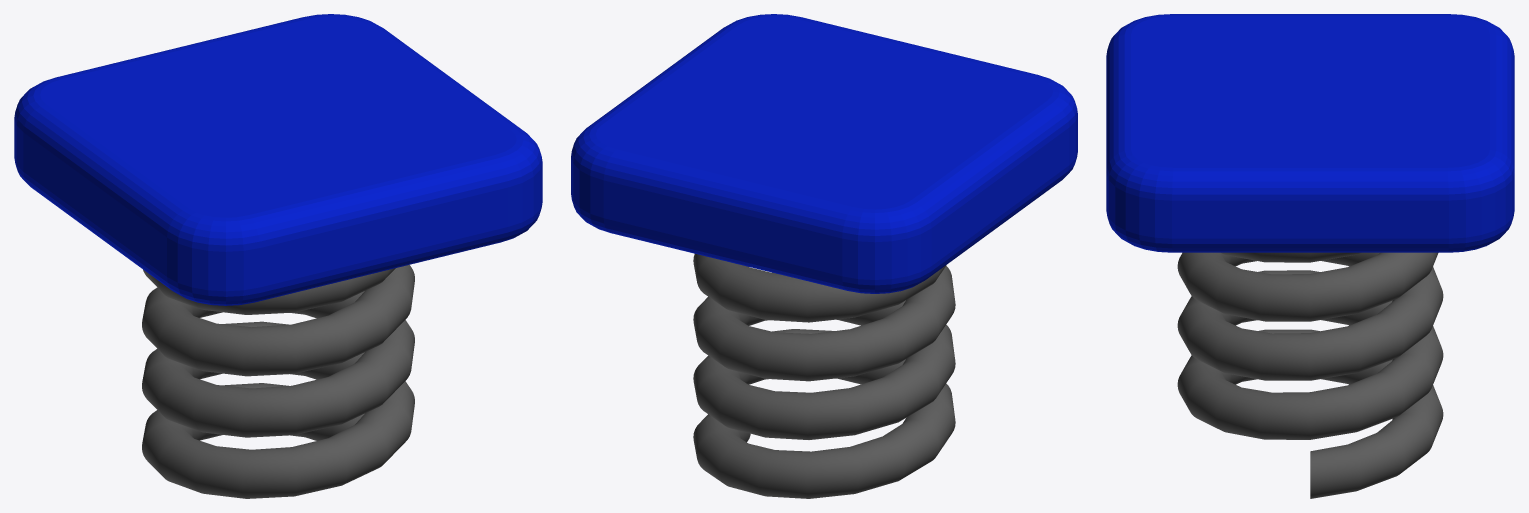
Rendered from Spring.obj.
3 renders of one model, left to right at view 1: azimuth 30°, elevation 25°; view 2: azimuth 150°, elevation 25°; view 3: azimuth 270°, elevation 25°, orthographic. The views are drawn at different scales.
Visible parts, largest first — view 1: 立方体.001, 円; view 2: 立方体.001, 円; view 3: 立方体.001, 円.
Boxes of the visible parts, x1,y1,x2,y2 form: 立方体.001: (14, 14, 542, 305); 円: (142, 265, 414, 498); 立方体.001: (571, 14, 1077, 293); 円: (693, 254, 955, 498); 立方体.001: (1106, 14, 1514, 252); 円: (1177, 252, 1443, 498).
Size of the model in its own units: 7.57 by 7.34 by 7.57.
